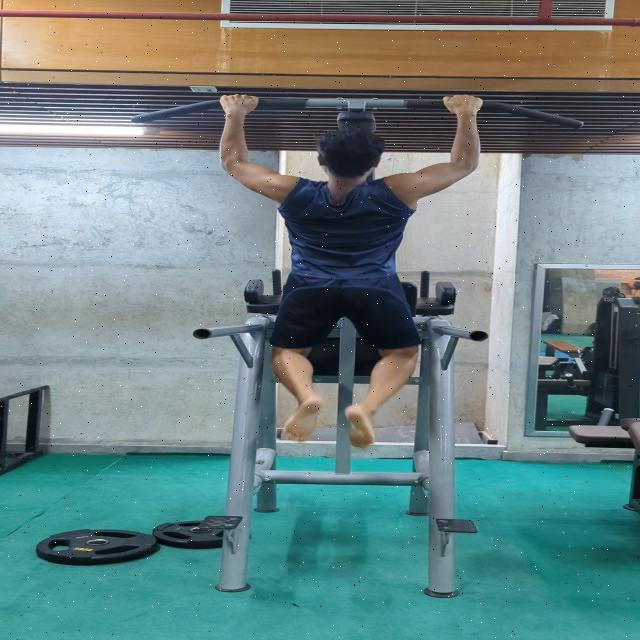Normal_PullUps: (197, 86, 490, 453)
